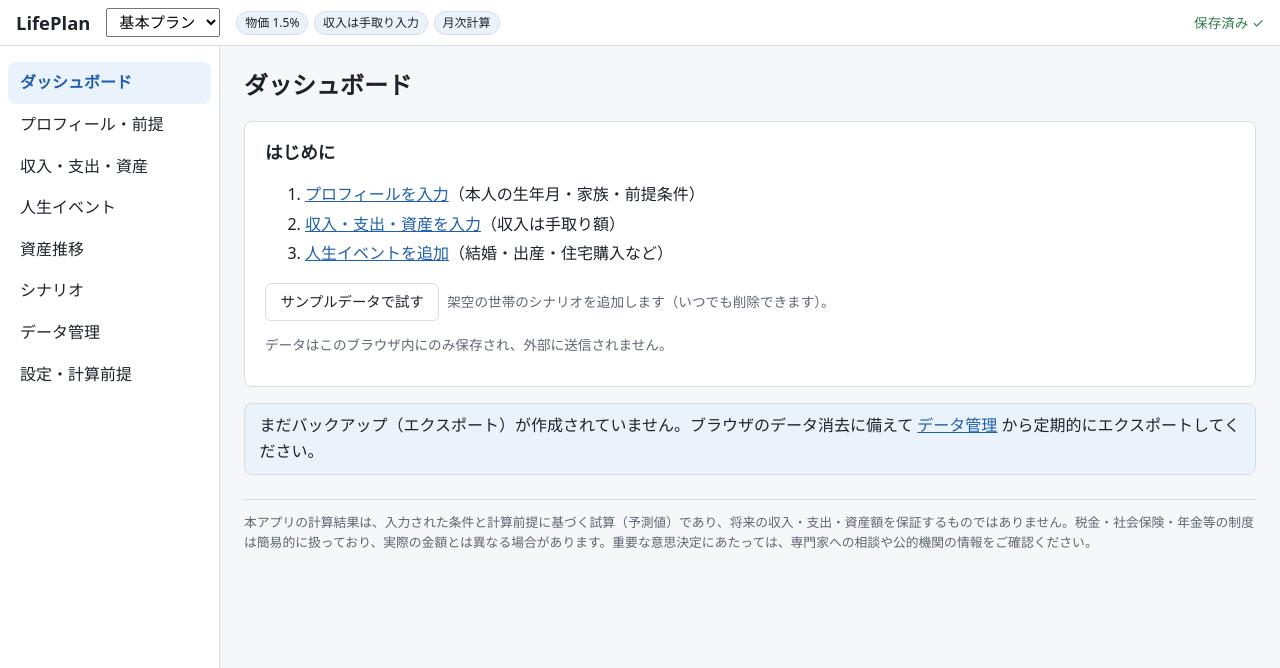
Test: 画面の基本操作 › 初回は「はじめに」を表示し、ナビゲーションで各画面に移動できる
This screenshot has width=1280, height=668.
Check: the message "保存済み ✓" is shown, box [1194,12,1264,34]
Check: the heading "はじめに" is shown, box [265,140,335,164]
Click the link "プロフィール・前提" at (92, 124), box [20,113,164,135]
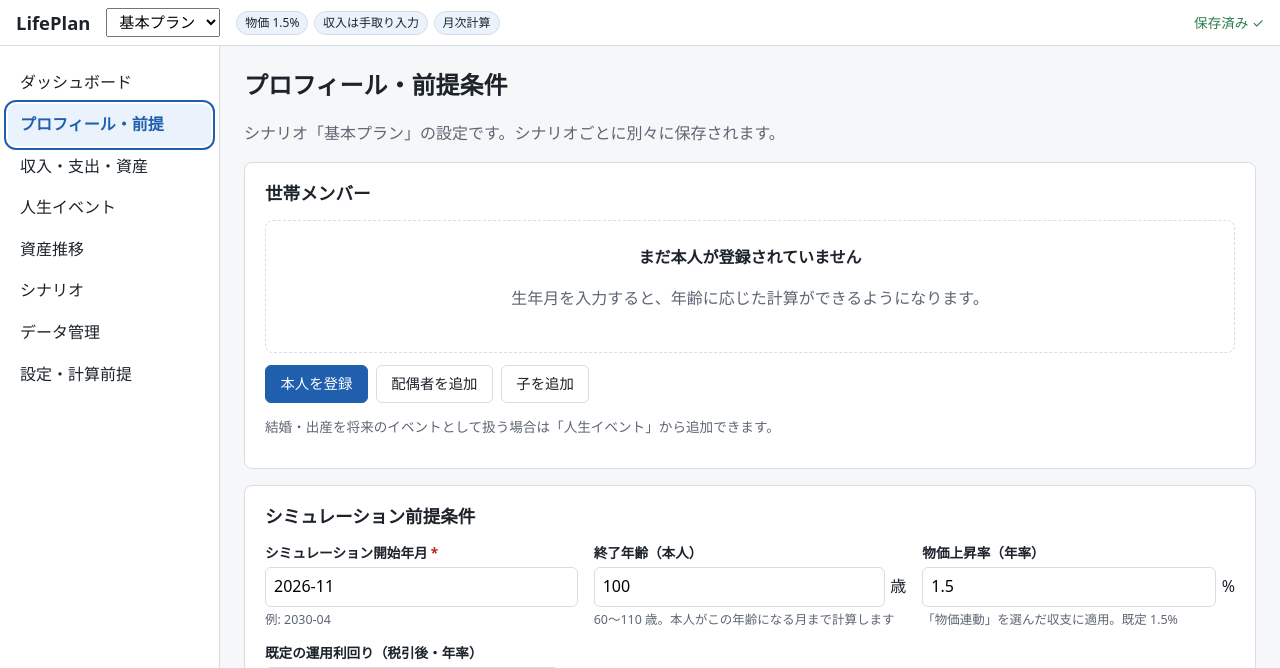
Check: the heading "プロフィール・前提条件" is shown, box [244,68,508,101]
Click the link "設定・計算前提" at (76, 374), box [20,363,132,385]
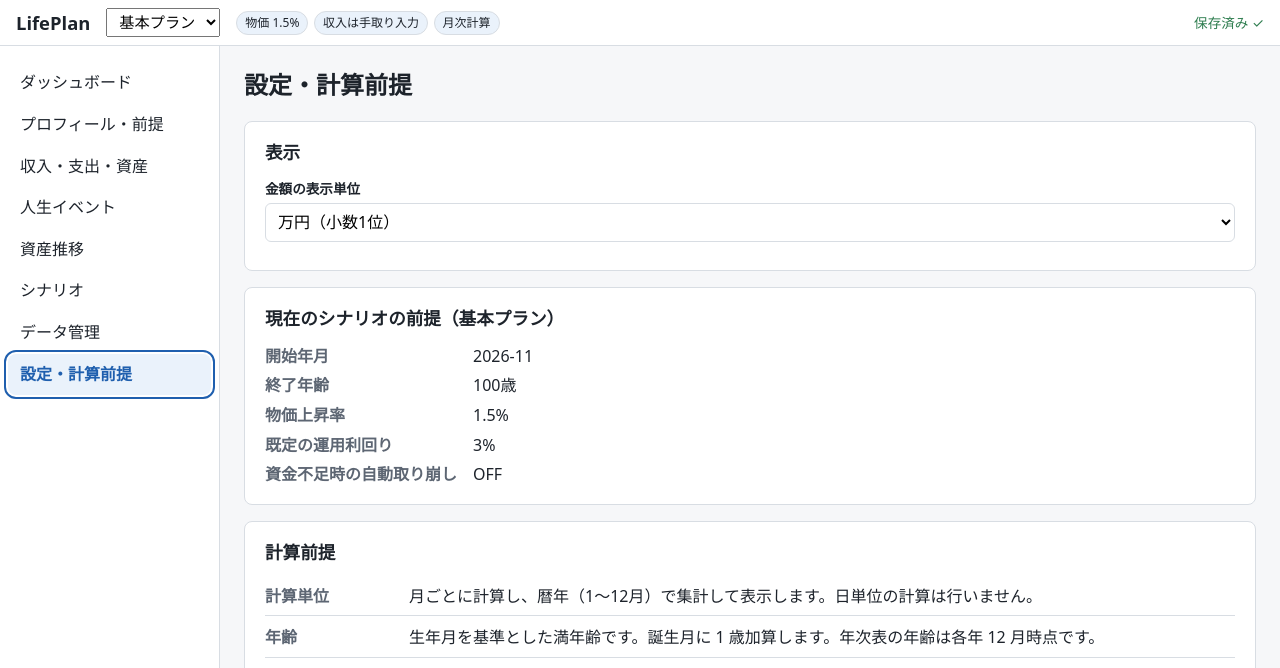
Check: the heading "計算前提" is shown, box [265,540,335,564]
